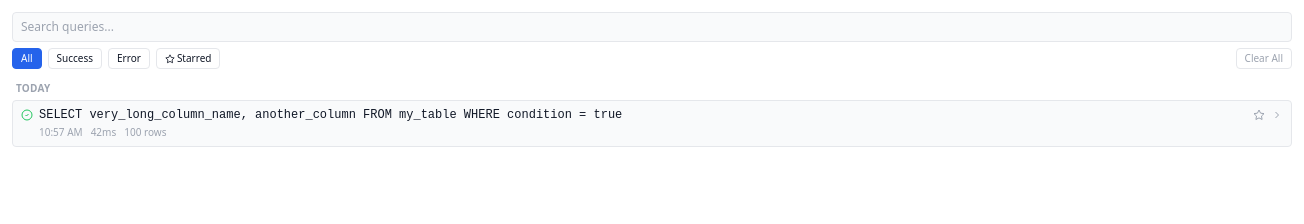
Test: QH-3: Clicking entry expands full SQL › expands to show full SQL when entry is clicked
# Click the entry toggle
Click the button with test id "query-history-entry-toggle".
click(331, 115)  # box [13,101,1291,146]
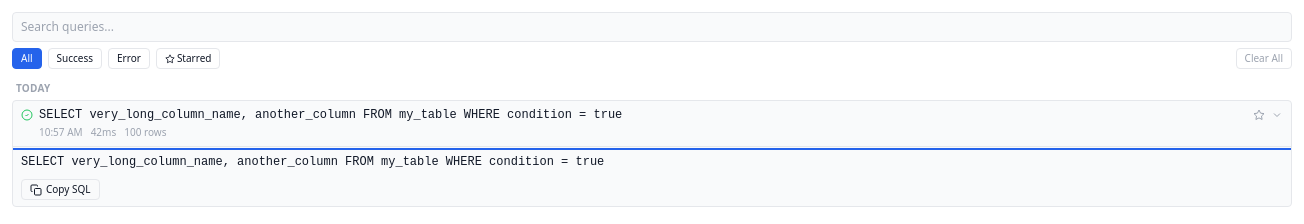
Check: the element with test id "query-history-entry-expanded" is shown, box [13,146,1291,206]
Check: the text with test id "query-history-entry-full-sql" shows "SELECT very_long_column_name, another_column FROM my_table WHERE condition = true", box [21,155,604,169]
